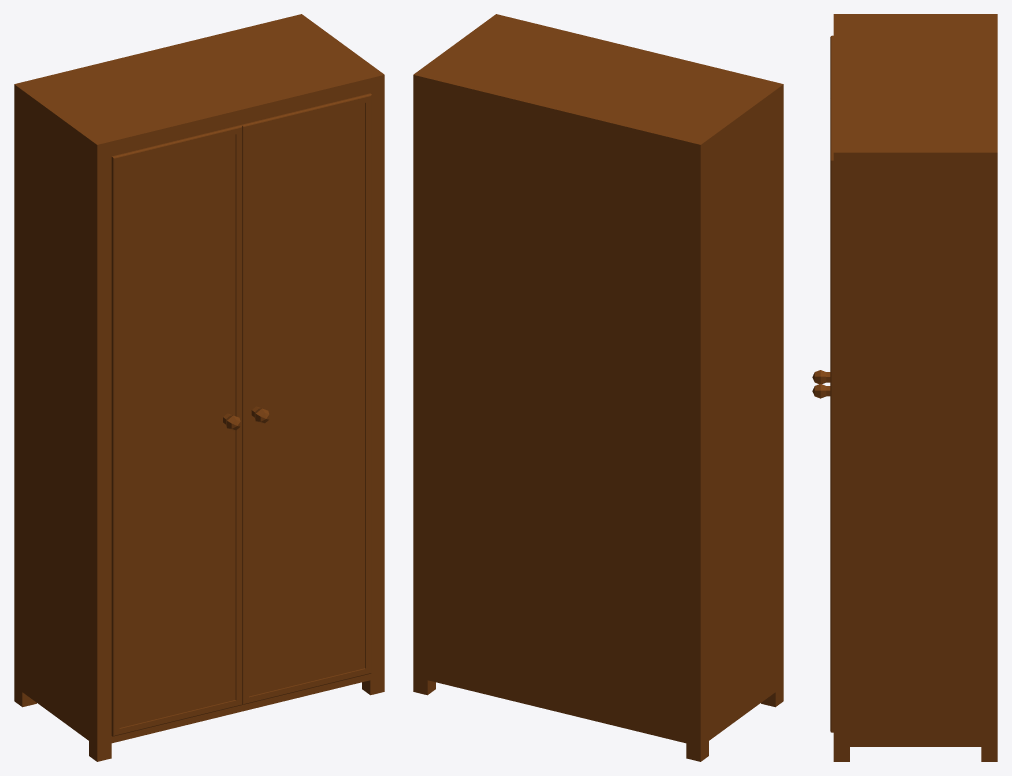
File: Cabinet.fbx
The picture shows the model from 3 angles, left to right: view 1: azimuth 30°, elevation 25°; view 2: azimuth 150°, elevation 25°; view 3: azimuth 270°, elevation 25°; orthographic projection.
Visible parts, largest first — view 1: Armário, Porta.R, Porta.L; view 2: Armário; view 3: Armário, Porta.L, Porta.R.
Part boxes in pixels (x1=…): Armário: x1=14, y1=14, x2=384, y2=761; Porta.R: x1=111, y1=125, x2=241, y2=736; Porta.L: x1=241, y1=93, x2=371, y2=704; Armário: x1=413, y1=14, x2=783, y2=761; Armário: x1=833, y1=14, x2=997, y2=761; Porta.L: x1=812, y1=98, x2=833, y2=732; Porta.R: x1=812, y1=35, x2=833, y2=384.
Size of the model in its own units: 100 by 205 by 56.5.
